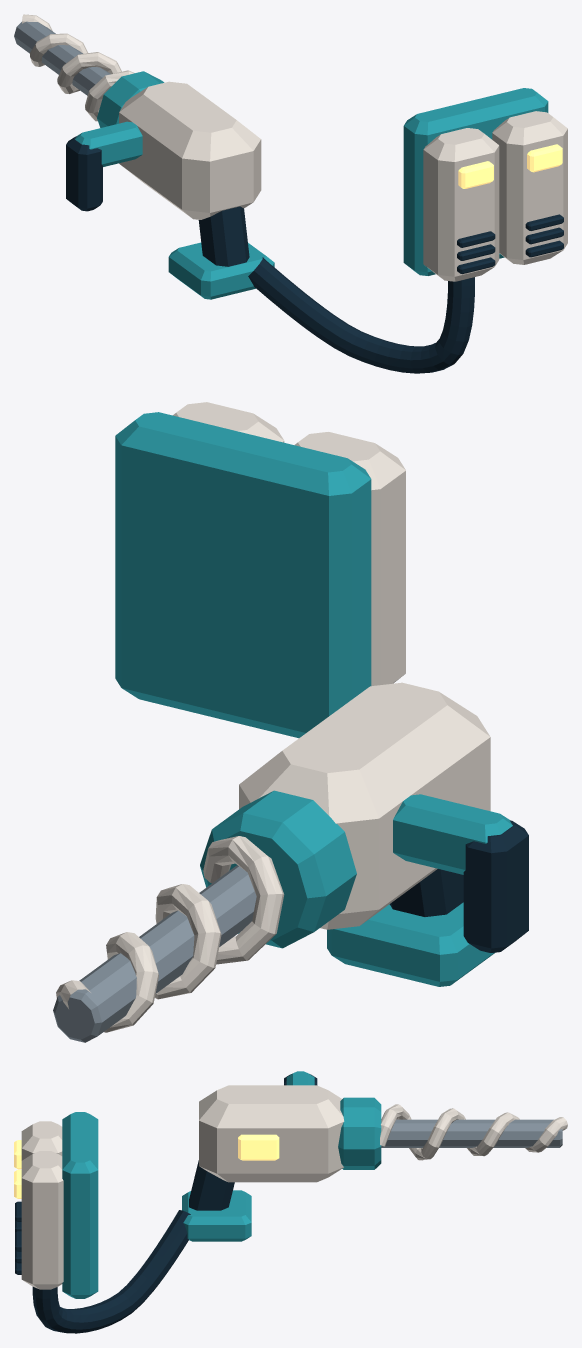
File: taladro_mochila.glb
3 views of the same model, one above another, from view 1: azimuth 30°, elevation 25°; view 2: azimuth 150°, elevation 25°; view 3: azimuth 270°, elevation 25° (orthographic). The views are drawn at different scales.
Visible parts, largest first — view 1: Carcasa, Celda, Cable, _MeshInstance3D_17, Bastidor, Bateria, Helice, Mango, MangoSecundario, Eje, AgarreEstabilizador, CollarMotor (+2 smaller); view 2: Bastidor, Carcasa, CollarMotor, Helice, Eje, Celda, Bateria, MangoSecundario, AgarreEstabilizador, Mango, _MeshInstance3D_17; view 3: Carcasa, Bastidor, _MeshInstance3D_17, Cable, Eje, CollarMotor, Helice, Bateria, Mango, Celda, Indicador, AgarreEstabilizador.
Boxes of the visible parts, left/top/right/bottom form: Carcasa: left=119, top=81, right=261, bottom=219; Celda: left=423, top=128, right=499, bottom=281; Cable: left=248, top=257, right=474, bottom=373; _MeshInstance3D_17: left=492, top=111, right=567, bottom=264; Bastidor: left=403, top=88, right=548, bottom=275; Bateria: left=168, top=242, right=274, bottom=299; Helice: left=22, top=14, right=134, bottom=121; Mango: left=198, top=206, right=249, bottom=266; MangoSecundario: left=66, top=136, right=102, bottom=211; Eje: left=14, top=21, right=110, bottom=95; AgarreEstabilizador: left=75, top=121, right=142, bottom=166; CollarMotor: left=97, top=71, right=164, bottom=127; Bastidor: left=115, top=412, right=371, bottom=738; Carcasa: left=239, top=682, right=490, bottom=929; CollarMotor: left=200, top=790, right=356, bottom=948; Helice: left=56, top=836, right=284, bottom=1032; Eje: left=53, top=865, right=256, bottom=1042; Celda: left=294, top=432, right=405, bottom=685; Bateria: left=327, top=902, right=494, bottom=986; MangoSecundario: left=463, top=820, right=528, bottom=952; AgarreEstabilizador: left=393, top=794, right=512, bottom=874; Mango: left=389, top=869, right=463, bottom=916; _MeshInstance3D_17: left=173, top=402, right=284, bottom=442; Carcasa: left=199, top=1085, right=344, bottom=1182; Bastidor: left=62, top=1112, right=98, bottom=1298; _MeshInstance3D_17: left=21, top=1151, right=63, bottom=1289; Cable: left=32, top=1210, right=190, bottom=1333; Eje: left=381, top=1119, right=562, bottom=1147; CollarMotor: left=338, top=1097, right=381, bottom=1169; Helice: left=380, top=1104, right=567, bottom=1160; Bateria: left=182, top=1190, right=251, bottom=1241; Mango: left=189, top=1160, right=234, bottom=1210; Celda: left=21, top=1121, right=62, bottom=1160; Indicador: left=238, top=1134, right=279, bottom=1160; AgarreEstabilizador: left=286, top=1071, right=314, bottom=1085.
Size of the model in its own units: 1.27 by 0.8858 by 1.99.
